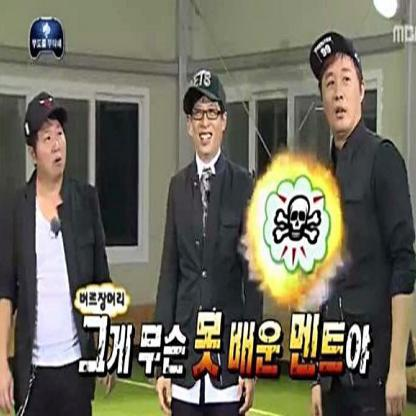skull: (273, 194, 321, 247)
